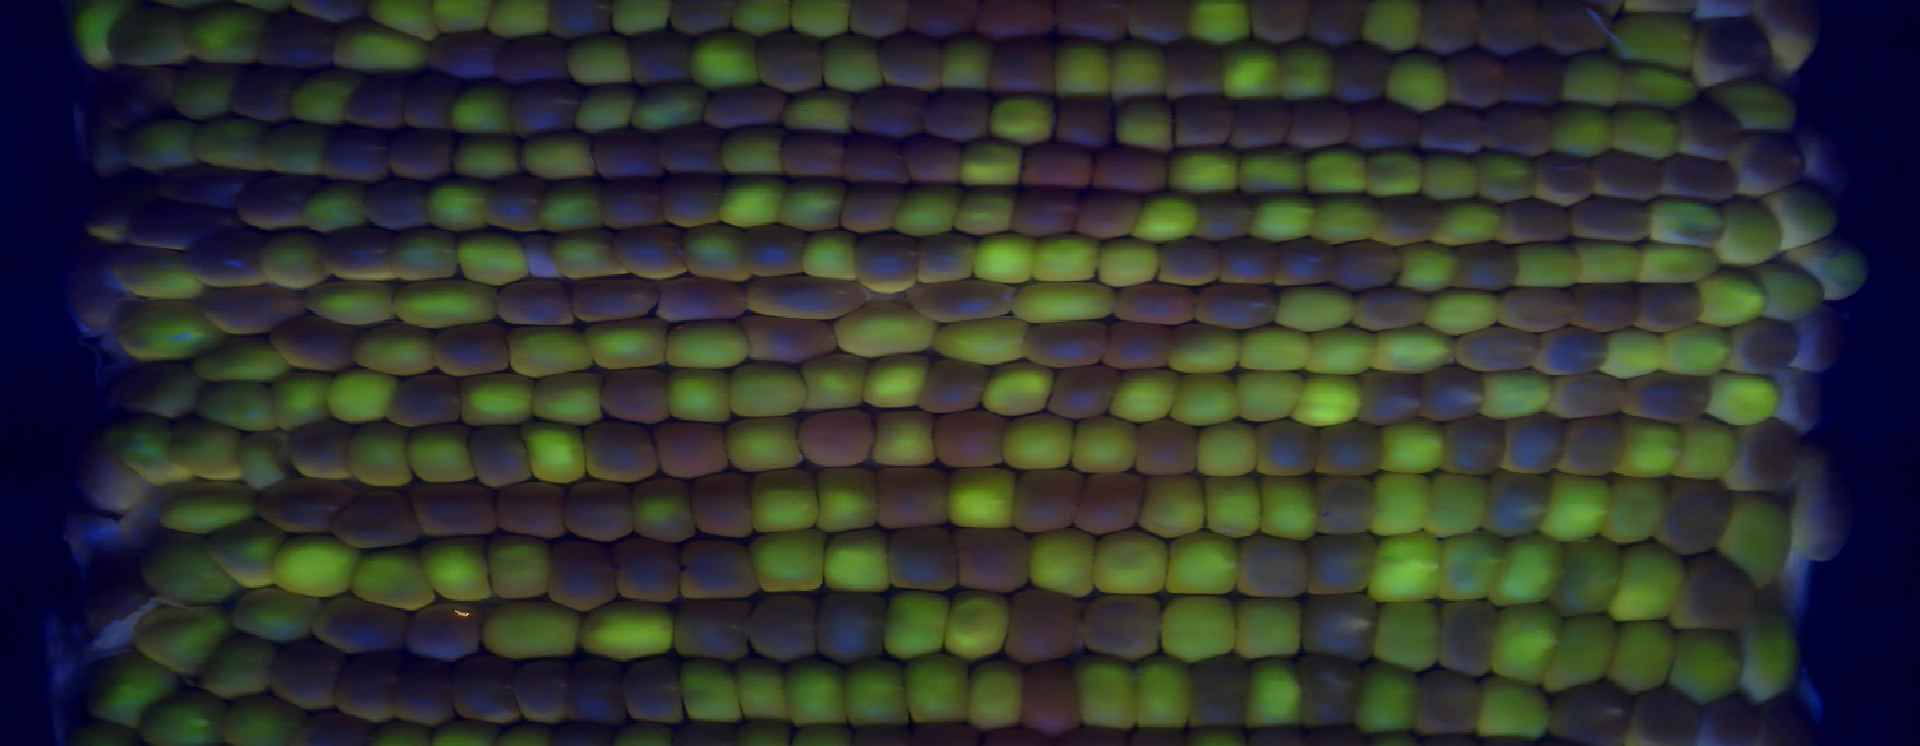fluorescent: (345, 543, 444, 620), (573, 597, 680, 660), (135, 595, 225, 669), (1727, 488, 1787, 582), (393, 276, 495, 331), (1153, 595, 1236, 663), (89, 655, 178, 718), (1613, 545, 1686, 620), (1491, 530, 1562, 608), (1093, 530, 1174, 598), (658, 359, 741, 424), (1542, 614, 1608, 695), (1554, 530, 1615, 617), (204, 523, 279, 594), (891, 660, 971, 726), (1607, 612, 1670, 695), (1739, 614, 1799, 699), (271, 539, 358, 598), (1095, 39, 1177, 100), (1771, 178, 1837, 254), (1031, 530, 1100, 601), (884, 587, 951, 659), (473, 604, 579, 649), (1547, 465, 1609, 541), (1131, 472, 1200, 540), (1368, 601, 1438, 669), (1368, 533, 1438, 600), (1720, 201, 1787, 272), (109, 250, 200, 301), (741, 537, 822, 594), (737, 475, 816, 534), (831, 307, 936, 352), (729, 416, 804, 477), (1255, 478, 1325, 543), (220, 691, 302, 746), (326, 372, 405, 429), (1367, 465, 1431, 534), (451, 230, 528, 288), (1673, 639, 1739, 706), (144, 548, 231, 598), (350, 428, 422, 488), (1647, 191, 1722, 249), (1190, 418, 1258, 481), (839, 665, 909, 726), (1078, 659, 1138, 730), (1276, 285, 1363, 334), (202, 633, 276, 691), (973, 363, 1056, 414), (1000, 416, 1082, 468), (193, 383, 287, 429), (173, 420, 239, 484), (1168, 530, 1231, 598), (1131, 658, 1193, 726), (1232, 601, 1302, 661), (782, 661, 841, 733), (1164, 145, 1242, 198), (115, 307, 209, 352), (953, 468, 1016, 533), (1200, 477, 1260, 545), (938, 314, 1029, 359), (187, 1, 263, 55), (583, 317, 666, 366), (948, 594, 1010, 659), (257, 121, 324, 181), (1674, 416, 1734, 484), (309, 278, 393, 326), (142, 695, 220, 746), (538, 372, 609, 429), (737, 360, 803, 420), (1360, 663, 1419, 730), (1070, 414, 1139, 472), (156, 488, 258, 526), (1221, 42, 1287, 100), (197, 333, 283, 379), (129, 114, 196, 171), (174, 60, 247, 113), (1025, 233, 1103, 282), (479, 533, 541, 594), (1015, 287, 1127, 321), (1248, 660, 1305, 726), (860, 407, 932, 459), (1795, 240, 1869, 292), (467, 371, 538, 424), (519, 424, 587, 479), (1491, 605, 1538, 685), (70, 2, 122, 72), (793, 355, 863, 408), (1429, 472, 1489, 533), (808, 465, 869, 526), (967, 661, 1026, 724), (1373, 418, 1439, 473), (429, 534, 484, 600), (1480, 685, 1548, 739), (144, 407, 187, 491), (1167, 327, 1247, 372), (1445, 530, 1491, 608), (1704, 372, 1771, 426), (666, 321, 744, 366), (1303, 142, 1370, 195), (1109, 94, 1173, 149), (1370, 331, 1450, 375), (1242, 147, 1307, 201), (779, 183, 850, 232), (1387, 65, 1455, 116), (680, 663, 738, 722), (274, 363, 332, 423), (1053, 39, 1109, 100), (1616, 17, 1692, 62), (1635, 243, 1725, 281), (509, 334, 587, 379), (1477, 149, 1534, 208), (687, 34, 754, 85), (1239, 372, 1308, 421), (1564, 53, 1629, 104), (1622, 420, 1682, 475), (993, 88, 1054, 142), (1660, 323, 1728, 372), (796, 236, 864, 284), (1718, 78, 1790, 124), (1764, 262, 1820, 321), (544, 181, 602, 236), (863, 352, 922, 407), (1367, 1, 1427, 55), (1184, 1, 1255, 47), (1616, 104, 1679, 156), (329, 42, 426, 75), (1624, 60, 1687, 110), (1113, 371, 1182, 418), (719, 130, 792, 173), (306, 179, 369, 229), (1480, 372, 1551, 416), (1307, 326, 1370, 375), (358, 1, 435, 42), (1242, 330, 1310, 375), (1283, 45, 1338, 102), (684, 220, 741, 276), (419, 430, 473, 488), (362, 326, 429, 372), (234, 429, 291, 481), (937, 37, 996, 88), (238, 586, 312, 626), (1422, 149, 1479, 201), (1316, 198, 1382, 243), (393, 236, 463, 278), (1610, 478, 1657, 540), (192, 126, 257, 169), (829, 36, 876, 94), (1597, 330, 1660, 372), (1438, 202, 1505, 243), (958, 138, 1018, 184), (553, 236, 622, 276), (529, 140, 593, 181), (432, 171, 486, 220), (1370, 152, 1425, 200), (293, 85, 354, 127), (1184, 375, 1240, 421), (838, 530, 884, 587), (634, 481, 680, 539), (563, 40, 636, 76), (1429, 292, 1496, 330), (1303, 383, 1370, 421), (1560, 110, 1616, 156), (628, 87, 699, 122), (782, 97, 851, 134), (268, 233, 316, 285), (724, 171, 780, 216), (1700, 287, 1767, 323), (1138, 197, 1205, 234), (738, 661, 779, 723), (1255, 194, 1313, 236), (905, 189, 962, 232), (571, 89, 626, 134), (964, 189, 1019, 232), (458, 136, 522, 173), (1518, 249, 1582, 285), (1104, 240, 1160, 282), (448, 89, 506, 127), (489, 1, 549, 37), (1586, 240, 1638, 278), (980, 233, 1025, 276), (435, 1, 491, 36), (1395, 245, 1457, 274), (795, 1, 845, 37), (737, 1, 789, 34), (605, 1, 662, 29)
nonfluorescent: (809, 578, 891, 658), (1690, 18, 1784, 82), (883, 526, 961, 600), (999, 592, 1082, 661), (1232, 526, 1313, 595), (1656, 478, 1728, 555), (313, 595, 409, 653), (392, 642, 454, 726), (1307, 416, 1387, 481), (612, 533, 684, 605), (962, 518, 1029, 597), (336, 485, 415, 550), (458, 423, 538, 488), (451, 653, 519, 726), (1300, 527, 1374, 595), (1080, 594, 1157, 659), (1544, 687, 1632, 744), (1674, 92, 1744, 163), (1302, 657, 1357, 746), (796, 405, 874, 468), (1438, 598, 1495, 682), (1731, 134, 1805, 200), (1695, 552, 1753, 635), (418, 484, 500, 543), (1555, 416, 1629, 481), (403, 594, 476, 659), (493, 481, 571, 543), (1021, 663, 1087, 734), (753, 29, 825, 94), (748, 584, 811, 659), (247, 10, 332, 65), (844, 230, 920, 292), (684, 530, 753, 598), (1308, 594, 1380, 658), (661, 608, 748, 660), (660, 269, 744, 323), (1026, 314, 1104, 371), (566, 272, 658, 321), (197, 220, 264, 287), (555, 473, 632, 530), (197, 289, 298, 333), (729, 284, 857, 318), (1447, 331, 1539, 379), (871, 465, 950, 521), (550, 540, 615, 608), (580, 418, 653, 478), (618, 653, 677, 726), (596, 365, 670, 424), (425, 321, 500, 379), (331, 650, 396, 717), (1631, 685, 1700, 746), (1011, 473, 1080, 534), (1125, 416, 1196, 475), (509, 82, 583, 138), (1573, 274, 1647, 331), (1435, 420, 1509, 477), (1351, 375, 1435, 424), (1621, 372, 1704, 421), (269, 639, 331, 706), (1438, 47, 1498, 114), (1487, 472, 1545, 540), (263, 316, 342, 367), (496, 272, 566, 330), (740, 317, 839, 358), (1567, 198, 1658, 243), (1205, 650, 1247, 746), (115, 11, 192, 62), (1056, 92, 1124, 149), (231, 66, 302, 121), (1422, 675, 1477, 746), (264, 478, 331, 537), (782, 134, 857, 185), (687, 473, 747, 537), (1738, 423, 1796, 488), (422, 33, 500, 82), (1589, 149, 1663, 201), (1750, 692, 1820, 746), (522, 650, 568, 731), (1287, 97, 1358, 149), (628, 23, 686, 88), (1073, 472, 1138, 529), (160, 165, 242, 211), (929, 410, 1002, 462), (389, 376, 463, 426), (1370, 194, 1445, 243), (1247, 420, 1313, 475), (658, 178, 725, 232), (921, 233, 982, 292), (1495, 55, 1558, 113), (396, 76, 458, 134), (568, 652, 616, 726), (1418, 5, 1484, 59), (650, 420, 718, 473), (1482, 108, 1555, 156), (326, 129, 396, 179), (1215, 236, 1284, 287), (598, 176, 664, 229), (1536, 330, 1607, 379), (1487, 200, 1567, 243), (247, 171, 306, 230), (1147, 236, 1220, 284), (1157, 47, 1226, 97), (876, 36, 939, 89), (1498, 285, 1580, 327), (1637, 278, 1703, 330), (1113, 310, 1171, 369), (129, 363, 190, 418), (1738, 320, 1790, 383), (853, 89, 929, 134), (1544, 1, 1609, 53), (913, 287, 1018, 318), (1360, 98, 1428, 147), (1476, 1, 1544, 49), (658, 126, 721, 178), (737, 232, 806, 279), (612, 227, 673, 279), (1505, 414, 1558, 475), (1331, 243, 1402, 288), (1024, 147, 1103, 187), (324, 229, 387, 281), (1302, 1, 1367, 50), (1224, 100, 1289, 149), (993, 39, 1051, 94), (924, 355, 980, 413), (347, 69, 405, 121), (389, 129, 451, 179), (67, 273, 118, 334), (284, 421, 345, 472), (1097, 152, 1173, 192), (966, 1, 1056, 36), (137, 208, 227, 243), (1177, 94, 1231, 149), (1697, 695, 1755, 746), (1119, 1, 1190, 43), (932, 94, 996, 140), (1198, 284, 1271, 323), (1118, 284, 1196, 321), (1311, 481, 1370, 530), (1536, 159, 1596, 207), (1333, 47, 1386, 100), (1187, 194, 1253, 236), (707, 87, 782, 124), (598, 134, 661, 176), (1009, 191, 1073, 234), (1424, 366, 1477, 418), (1451, 245, 1512, 289), (1073, 194, 1135, 236), (1551, 381, 1624, 418), (1367, 294, 1434, 333), (1276, 239, 1331, 287), (915, 1, 983, 39), (1048, 1, 1128, 33), (1431, 102, 1484, 149), (850, 140, 902, 187), (1250, 1, 1305, 47), (847, 1, 909, 42), (361, 178, 425, 216), (1783, 366, 1821, 430), (492, 176, 541, 225), (902, 134, 953, 181), (549, 1, 616, 37), (500, 42, 555, 85), (1671, 160, 1728, 202), (1054, 367, 1104, 413), (849, 184, 902, 218)
